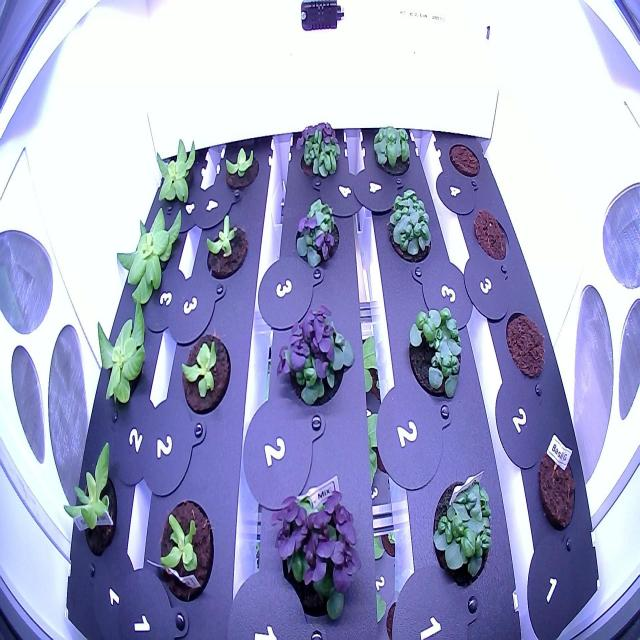pod: (531, 433, 586, 538), (496, 305, 554, 390), (472, 203, 514, 265), (444, 129, 485, 183)
young: (59, 434, 128, 564), (112, 198, 189, 314), (153, 482, 220, 612), (89, 293, 152, 419), (180, 322, 237, 422), (151, 127, 207, 215), (200, 201, 254, 291), (221, 137, 265, 201)
